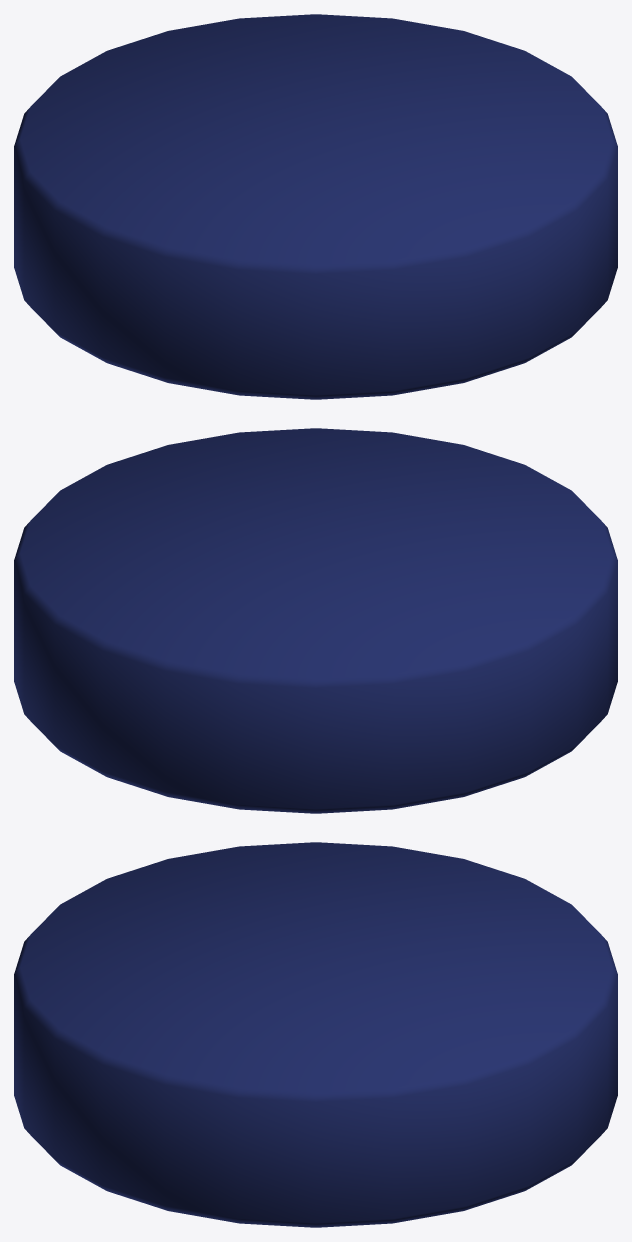
Rendered from pillarcylin.fbx.
3 views of the same model, one above another, from view 1: azimuth 30°, elevation 25°; view 2: azimuth 150°, elevation 25°; view 3: azimuth 270°, elevation 25° (orthographic).
Visible parts, largest first — view 1: pillarcdown_low; view 2: pillarcdown_low; view 3: pillarcdown_low.
Boxes of the visible parts, left/top/right/bottom form: pillarcdown_low: left=14, top=14, right=617, bottom=399; pillarcdown_low: left=14, top=428, right=617, bottom=813; pillarcdown_low: left=14, top=842, right=617, bottom=1227.
Bounding box in the file's own units: 1019 × 1019 × 253.
